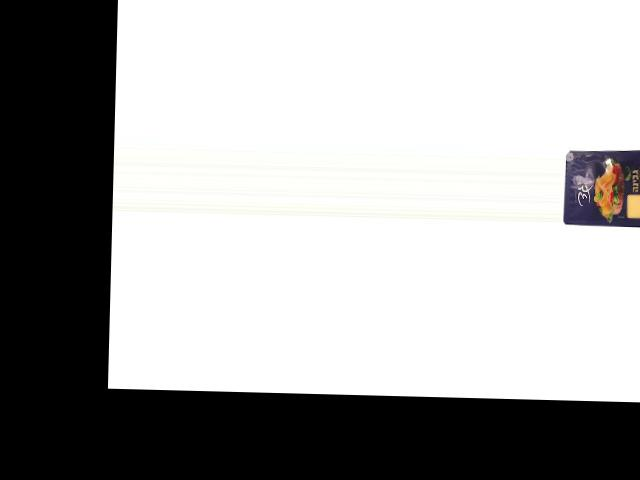cheese: (562, 144, 640, 228)
